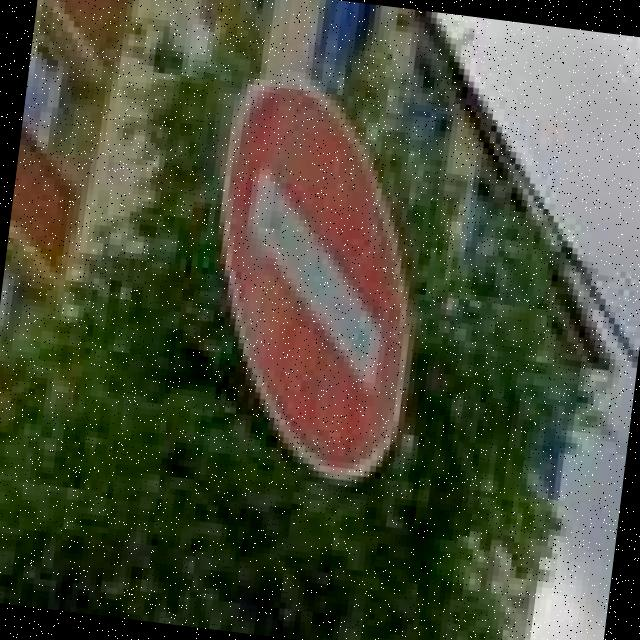Zakaz wjazdu: (190, 70, 443, 487)
